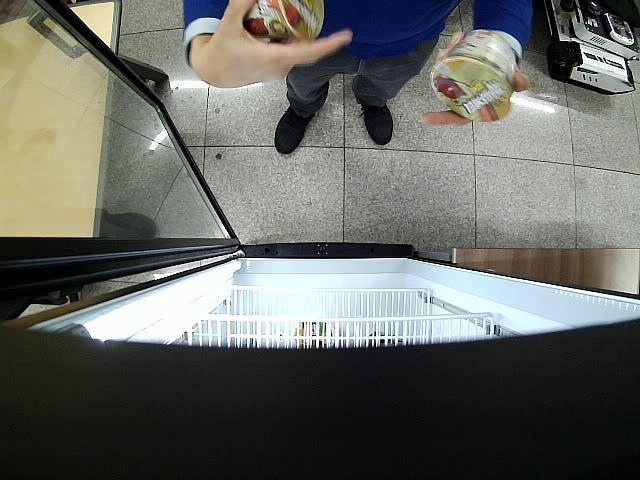04_chapagetti_S: (432, 29, 522, 122), (244, 0, 324, 43)
